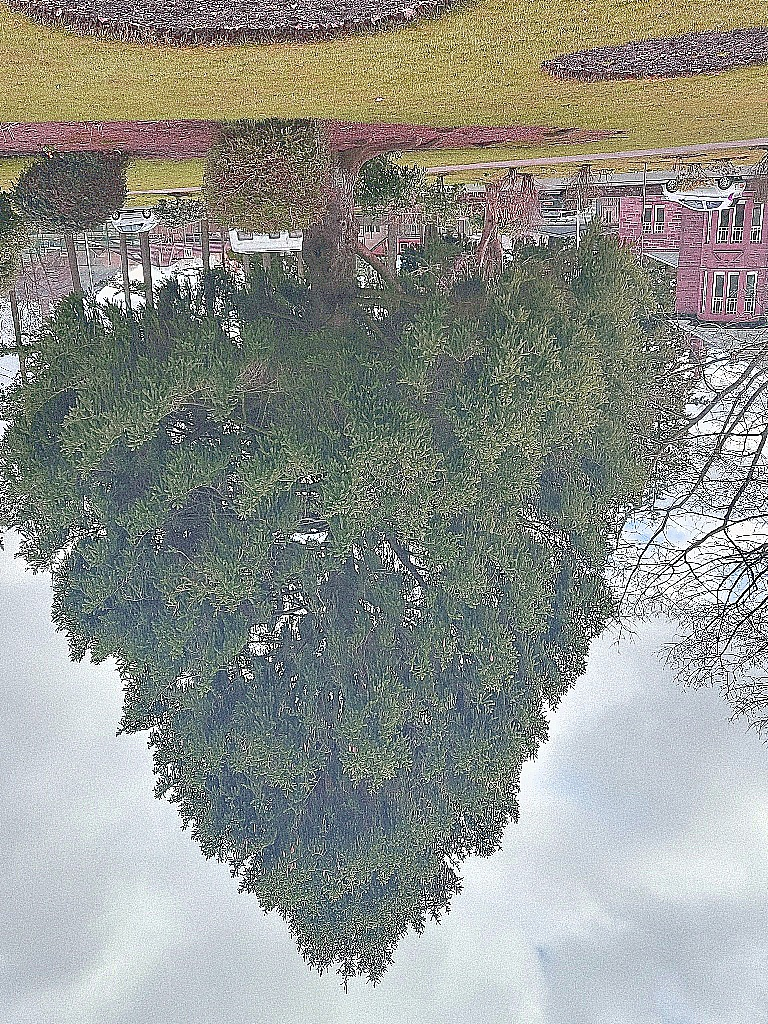Tree: (0, 137, 651, 997)
